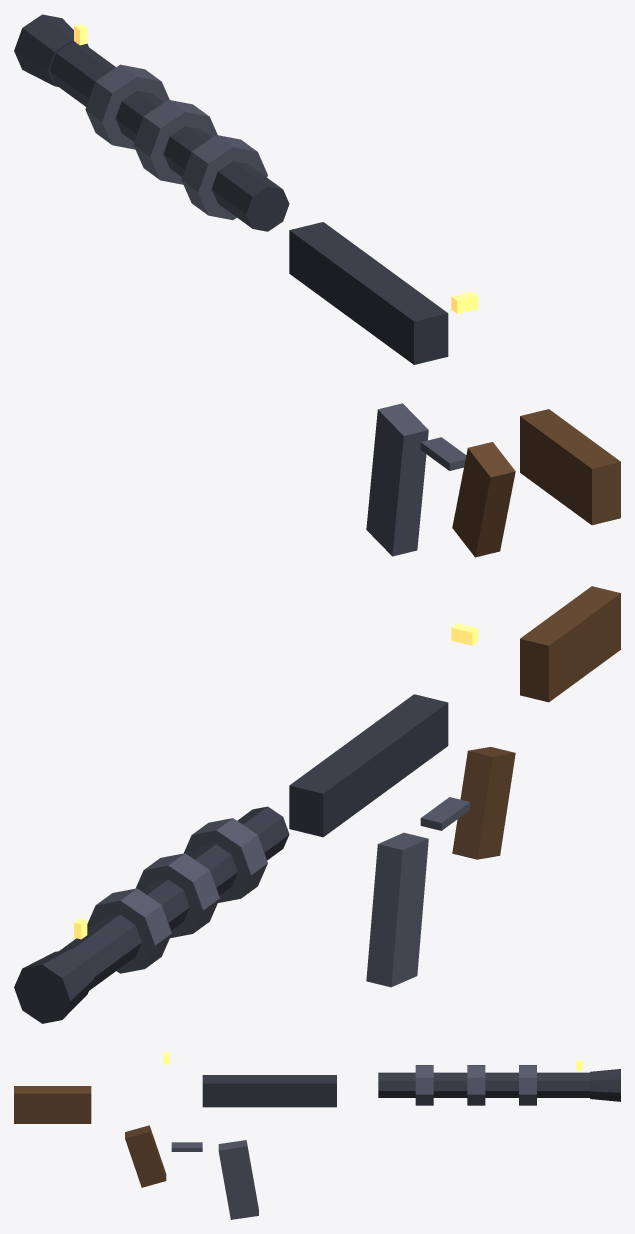
Rendered from weapon_machine_gun.glb.
3 views of the same model, one above another, from view 1: azimuth 30°, elevation 25°; view 2: azimuth 150°, elevation 25°; view 3: azimuth 270°, elevation 25° (orthographic). The views are drawn at different scales.
Visible parts, largest first — view 1: machine_gun; view 2: machine_gun; view 3: machine_gun.
Part boxes in pixels (<box>): machine_gun: <box>14,14,620,557</box>; machine_gun: <box>14,586,620,1023</box>; machine_gun: <box>14,1052,620,1219</box>.
Bounding box in the file's own units: 0.084 × 0.3459 × 1.17.
